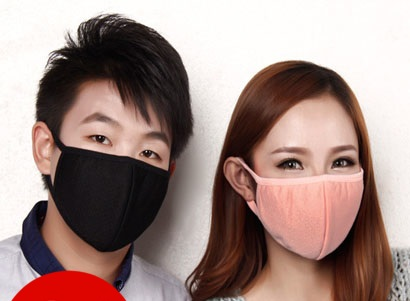face_mask: (49, 83, 174, 244), (245, 100, 371, 248)
